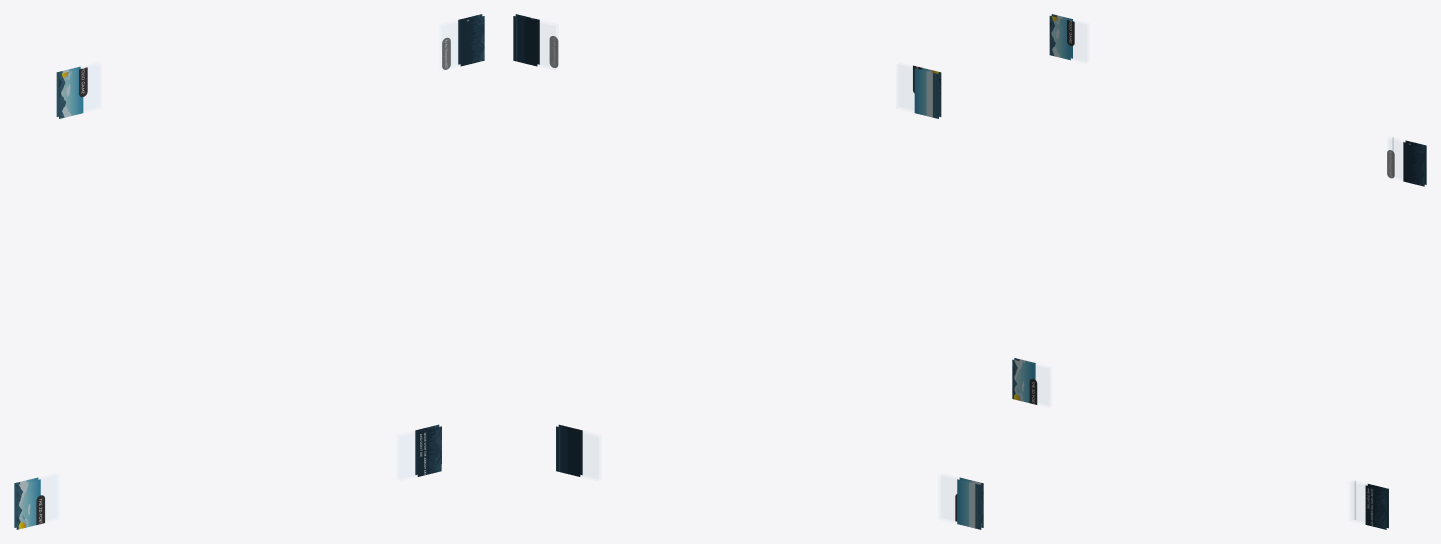
The model's file is panel-1-pc.gltf.
3 renders of one model, left to right at view 1: azimuth 30°, elevation 25°; view 2: azimuth 150°, elevation 25°; view 3: azimuth 330°, elevation 25°, orthographic. The views are drawn at different scales.
Visible parts, largest first — view 1: Cube.002_cell.006, Cube.002_cell.007, Cube.002_cell.003, Cube.002_cell; view 2: Cube.002_cell.006, Cube.002_cell.007, Cube.002_cell.003, Cube.002_cell; view 3: Cube.002_cell.006, Cube.002_cell, Cube.002_cell.003, Cube.002_cell.007.
Part boxes in pixels (<box>): Cube.002_cell.006: <box>442,14,484,69</box>; Cube.002_cell.007: <box>56,66,87,118</box>; Cube.002_cell.003: <box>14,477,45,529</box>; Cube.002_cell: <box>415,424,441,476</box>; Cube.002_cell.006: <box>513,14,558,67</box>; Cube.002_cell.007: <box>912,65,941,118</box>; Cube.002_cell.003: <box>955,477,983,529</box>; Cube.002_cell: <box>556,424,582,476</box>; Cube.002_cell.006: <box>1387,138,1426,186</box>; Cube.002_cell: <box>1354,481,1388,529</box>; Cube.002_cell.003: <box>1012,358,1037,404</box>; Cube.002_cell.007: <box>1049,14,1074,60</box>.
Size of the model in its own units: 10.9 by 10.92 by 0.1.
1 material, 1 textured.
